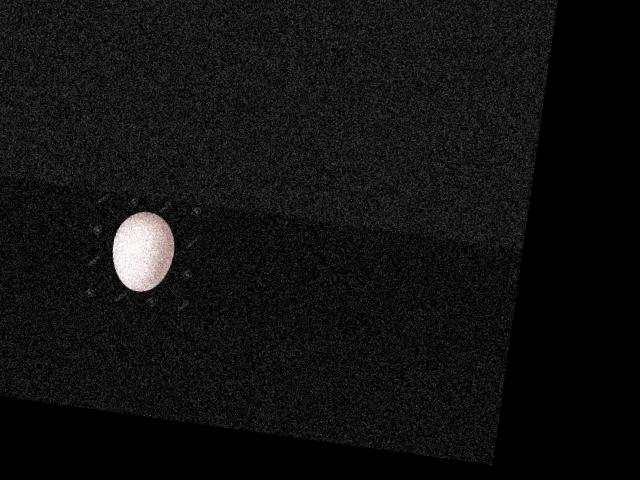egg: (107, 208, 177, 294)
